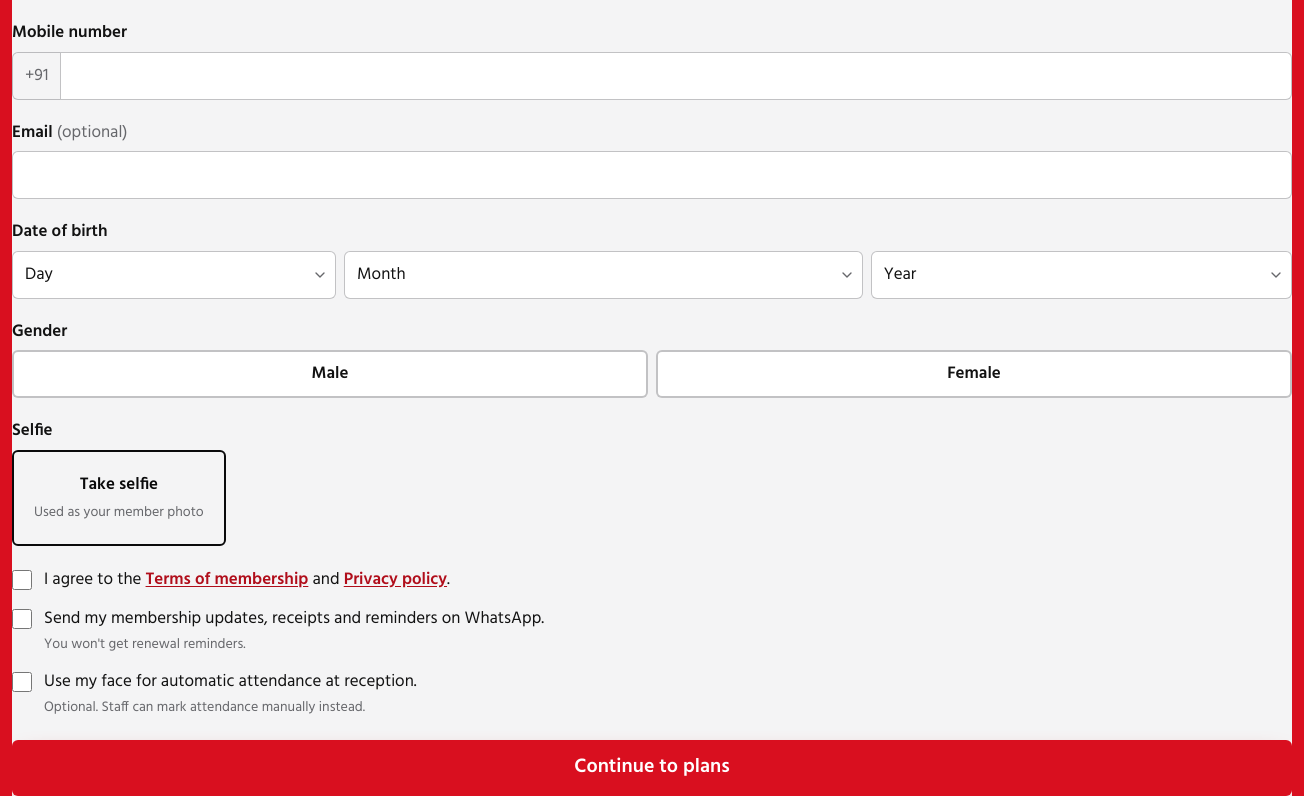
Test: DetailsStep › shows what is missing and sends nothing
(page scrolled)
Click the button "Continue to plans" at (652, 768), box [12,740,1292,795]
(page scrolled)
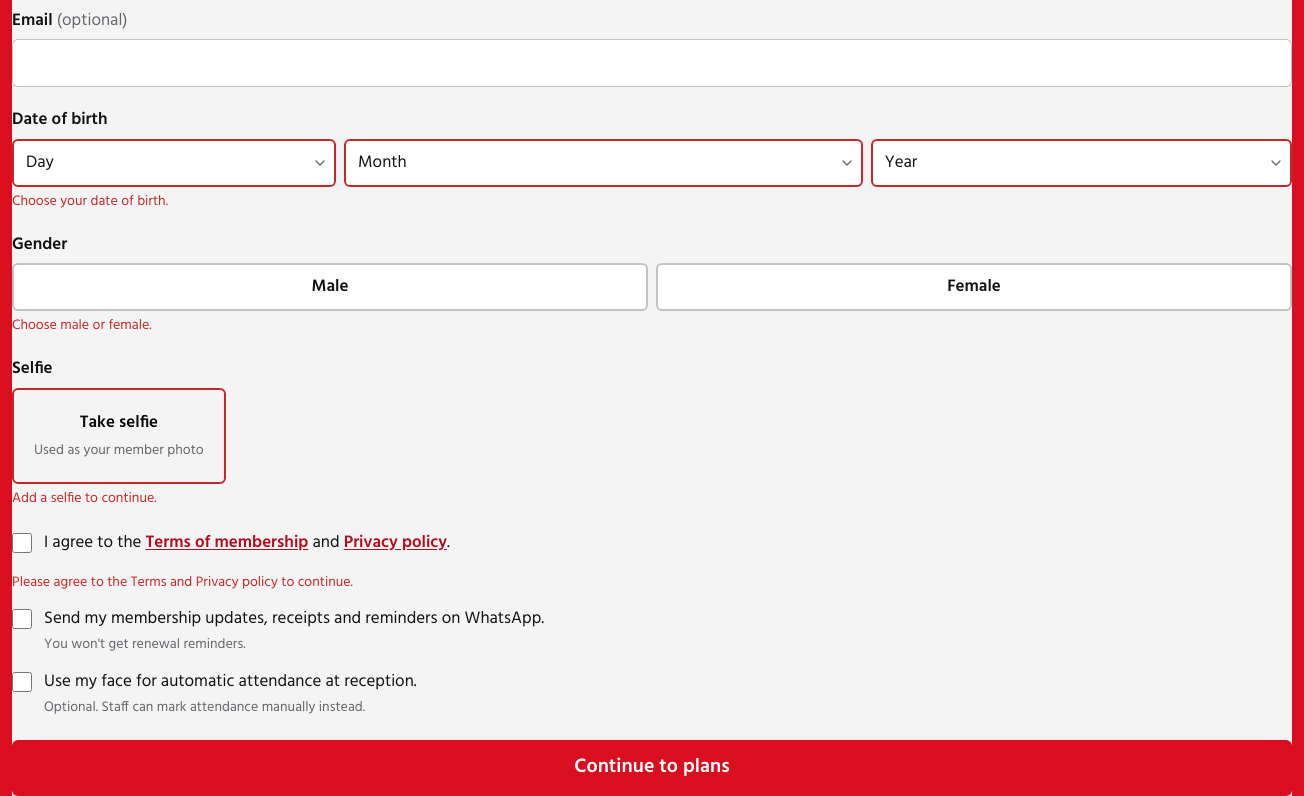
Expected: the text "Choose your date of birth." is shown, [12,190,168,213]
Expected: the text "Choose male or female." is shown, [12,314,152,337]
Expected: the text "Add a selfie to continue." is shown, [12,486,157,510]
